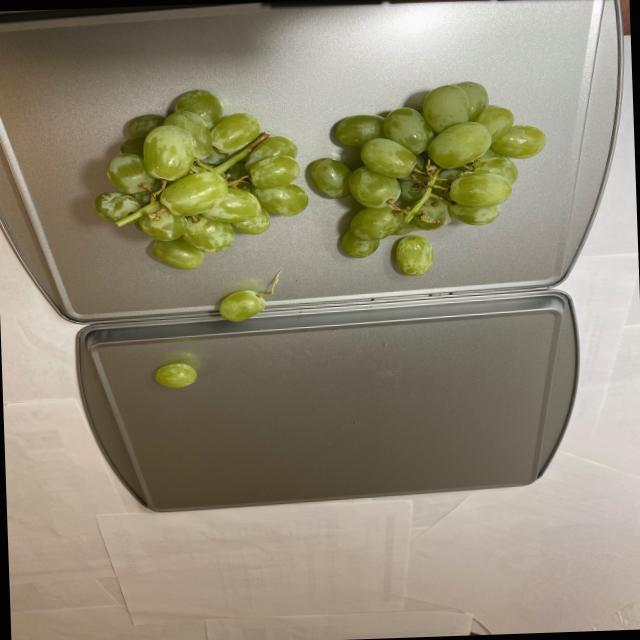grapes: (86, 72, 556, 285), (212, 282, 273, 324), (146, 360, 202, 391)
